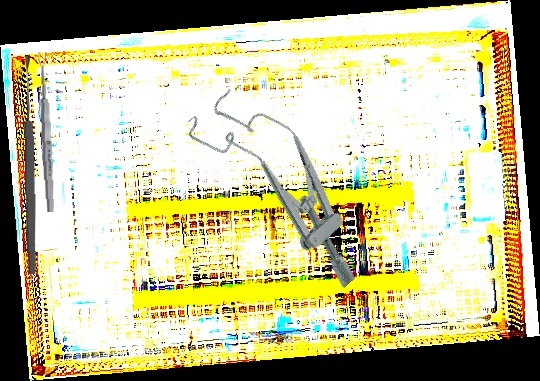Speculum: (181, 73, 393, 300)
Surgical Spoon: (22, 55, 38, 275), (36, 51, 57, 213)
